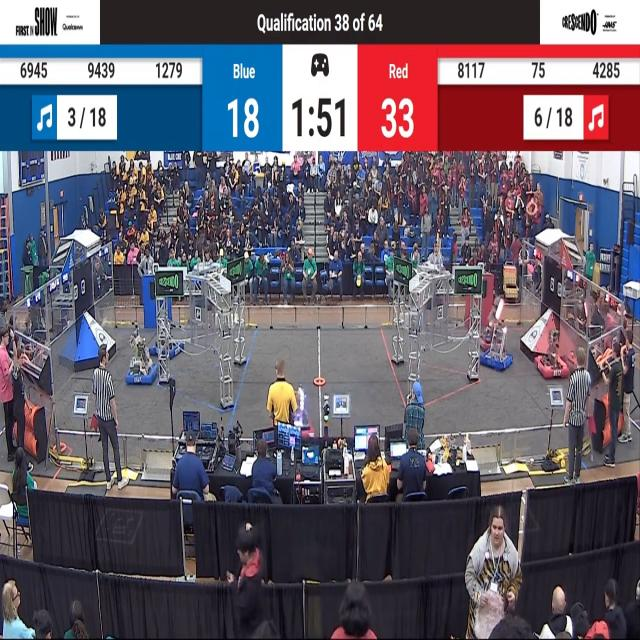Robot: (531, 315, 566, 383), (480, 312, 512, 376), (281, 380, 313, 444), (125, 329, 156, 388), (479, 294, 508, 354), (152, 316, 182, 364)
